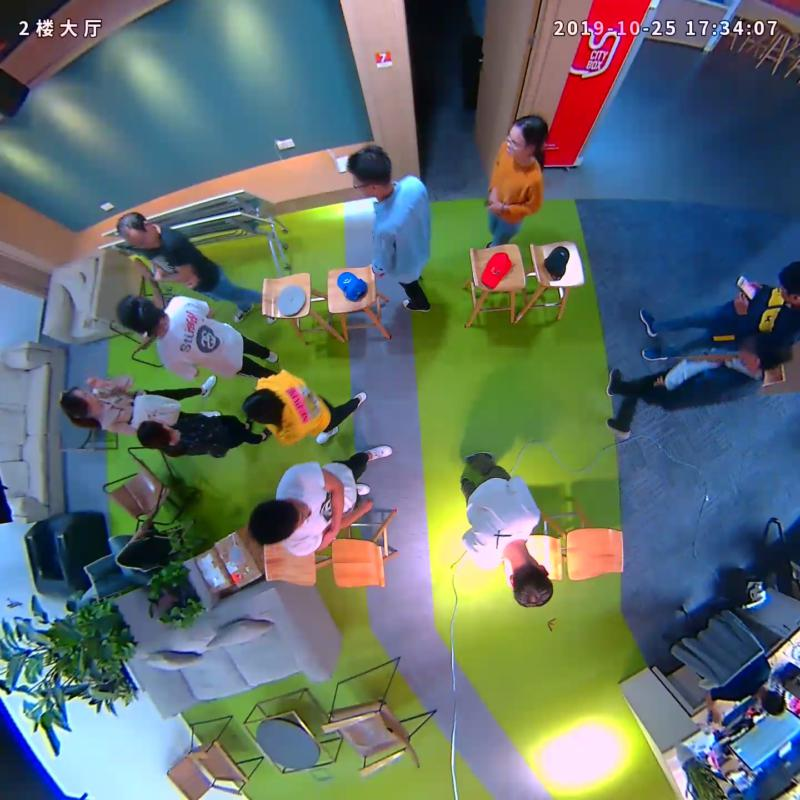head: (248, 499, 311, 545), (346, 146, 393, 199), (509, 558, 554, 609), (740, 329, 791, 374), (503, 114, 549, 158), (116, 294, 162, 334), (116, 212, 160, 249), (243, 389, 282, 426), (136, 420, 173, 450), (60, 387, 97, 412)
